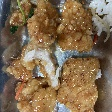guobaorou: (7, 1, 99, 112)
